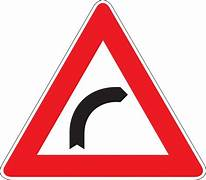right: (1, 1, 206, 180)
